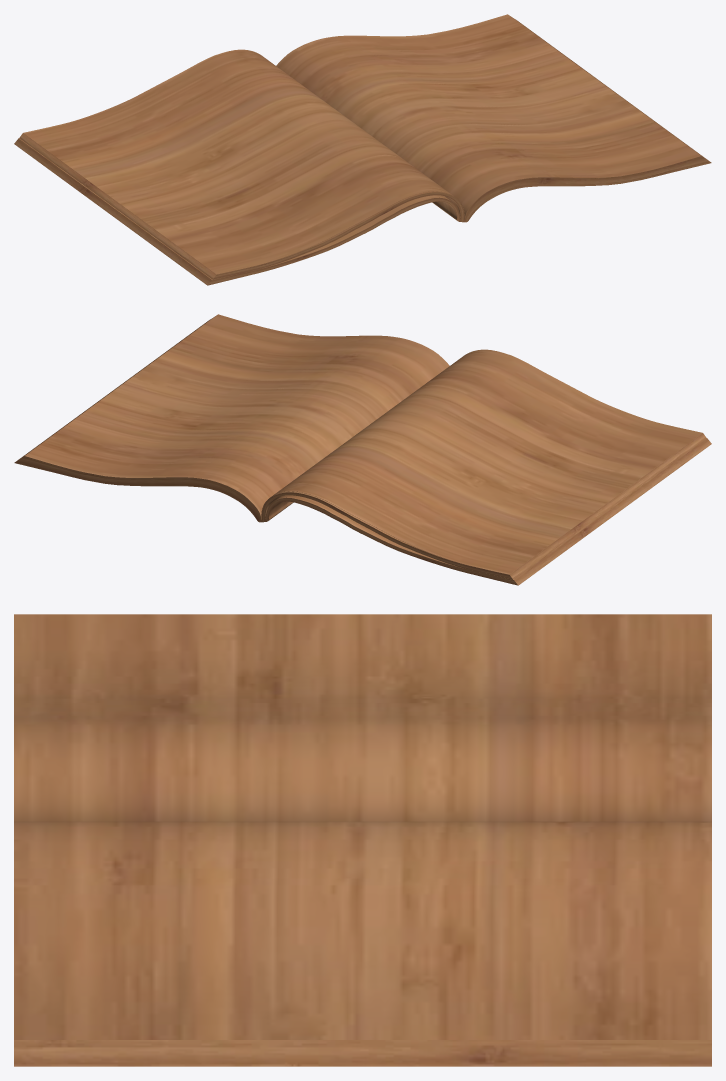
Rendered from CR_Journal2.glb.
The picture shows the model from 3 angles, top to bottom: view 1: azimuth 30°, elevation 25°; view 2: azimuth 150°, elevation 25°; view 3: azimuth 270°, elevation 25°; orthographic projection. The views are drawn at different scales.
Parts seen in each view (by area): view 1: Journal_2; view 2: Journal_2; view 3: Journal_2.
Part boxes in pixels (x1,y1,x2,y2): Journal_2: (14, 14, 711, 285); Journal_2: (14, 314, 711, 585); Journal_2: (14, 614, 711, 1066).
Size of the model in its own units: 0.4975 by 0.0384 by 0.3307.
Materials: 1 (1 with a texture image).
